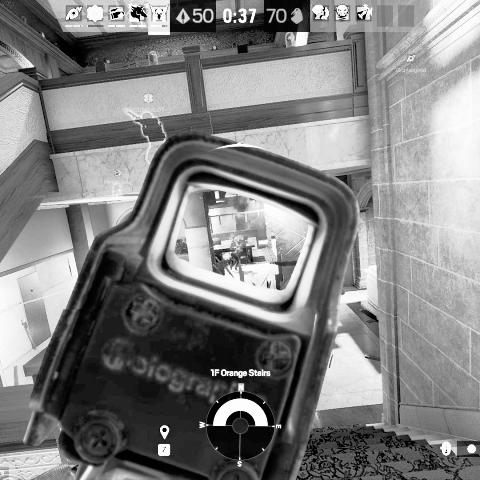Character: (228, 235, 246, 272)
Friend_label: (124, 92, 174, 114), (394, 52, 428, 74), (103, 169, 133, 185)
Head: (233, 236, 240, 242)
